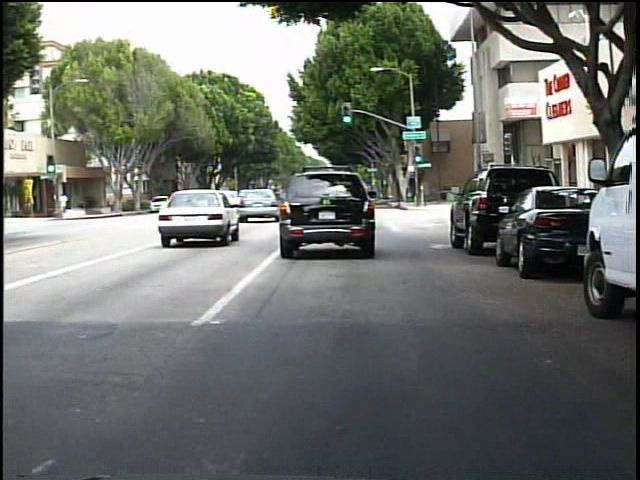person: (63, 190, 73, 217)
